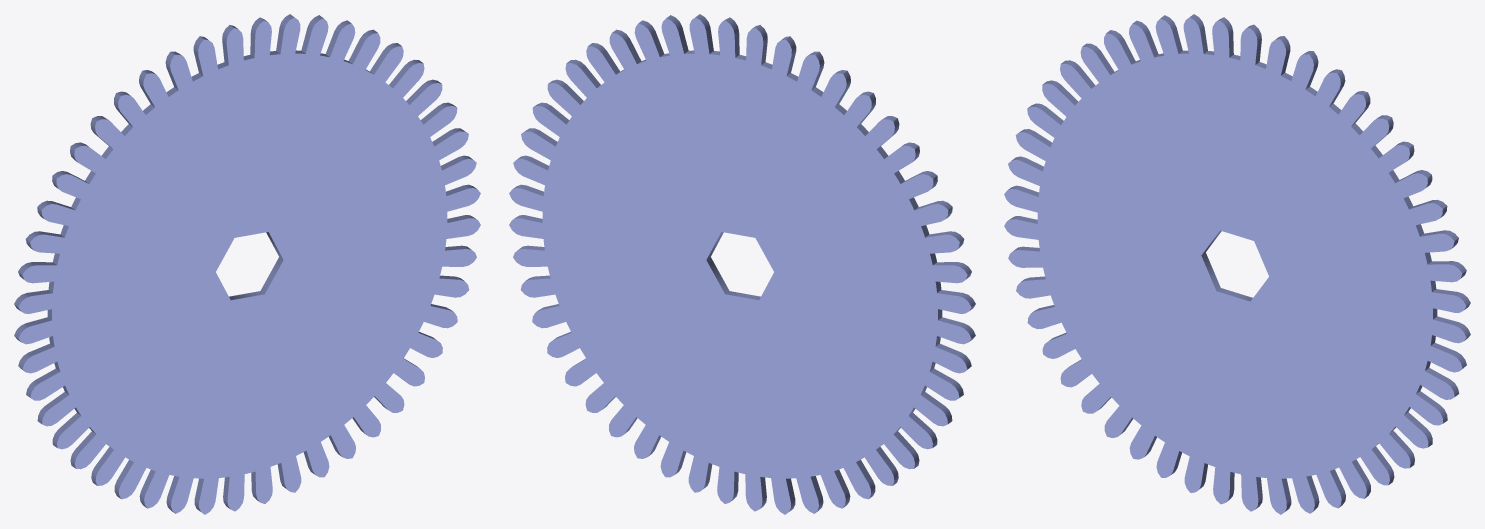
File: Copie de Roue Ass 05^Copie de Assemblage 05_Horloge Comtoise Verge - Sonnerie.obj
The picture shows the model from 3 angles, left to right: view 1: azimuth 30°, elevation 25°; view 2: azimuth 150°, elevation 25°; view 3: azimuth 330°, elevation 25°; orthographic projection.
Visible parts, largest first — view 1: Face_243; view 2: Face_1; view 3: Face_243.
Part boxes in pixels (x1,y1,x2,y2): Face_243: [18, 17, 480, 514]; Face_1: [509, 17, 971, 514]; Face_243: [1004, 17, 1466, 514].
Bounding box in the file's own units: 0.0477 × 0.0477 × 0.00079.
